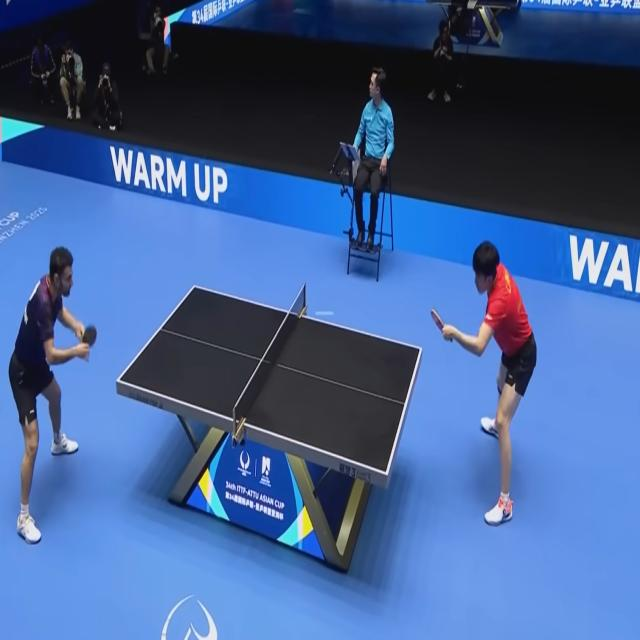TT Net: (232, 279, 308, 442)
TT Racket: (80, 319, 100, 352), (428, 306, 447, 336)
TT Table: (117, 282, 422, 474)
